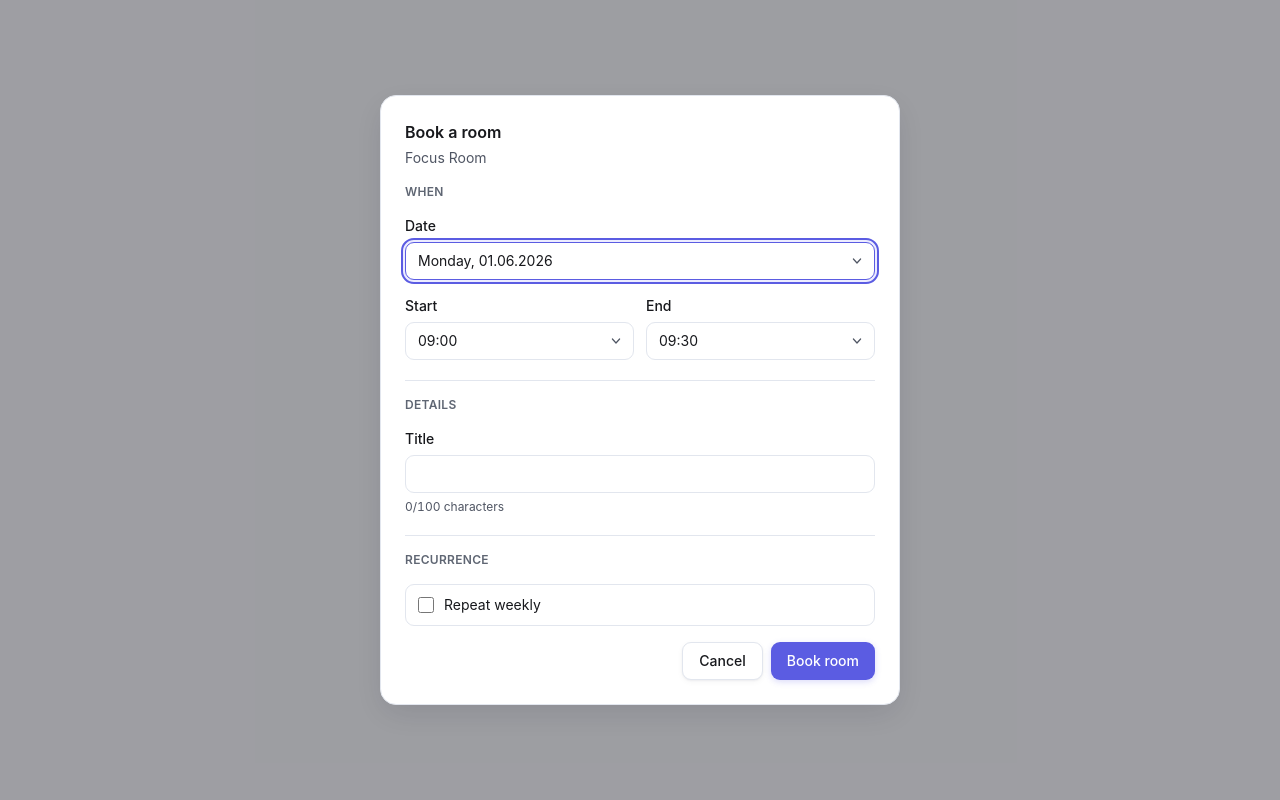
BookingCreateDialog validation › requires a valid occurrence count once recurrence is enabled
Type "Sprint planning" into the field labelled "Title".
click(640, 474); type("Sprint planning")  # box [405,455,875,493]
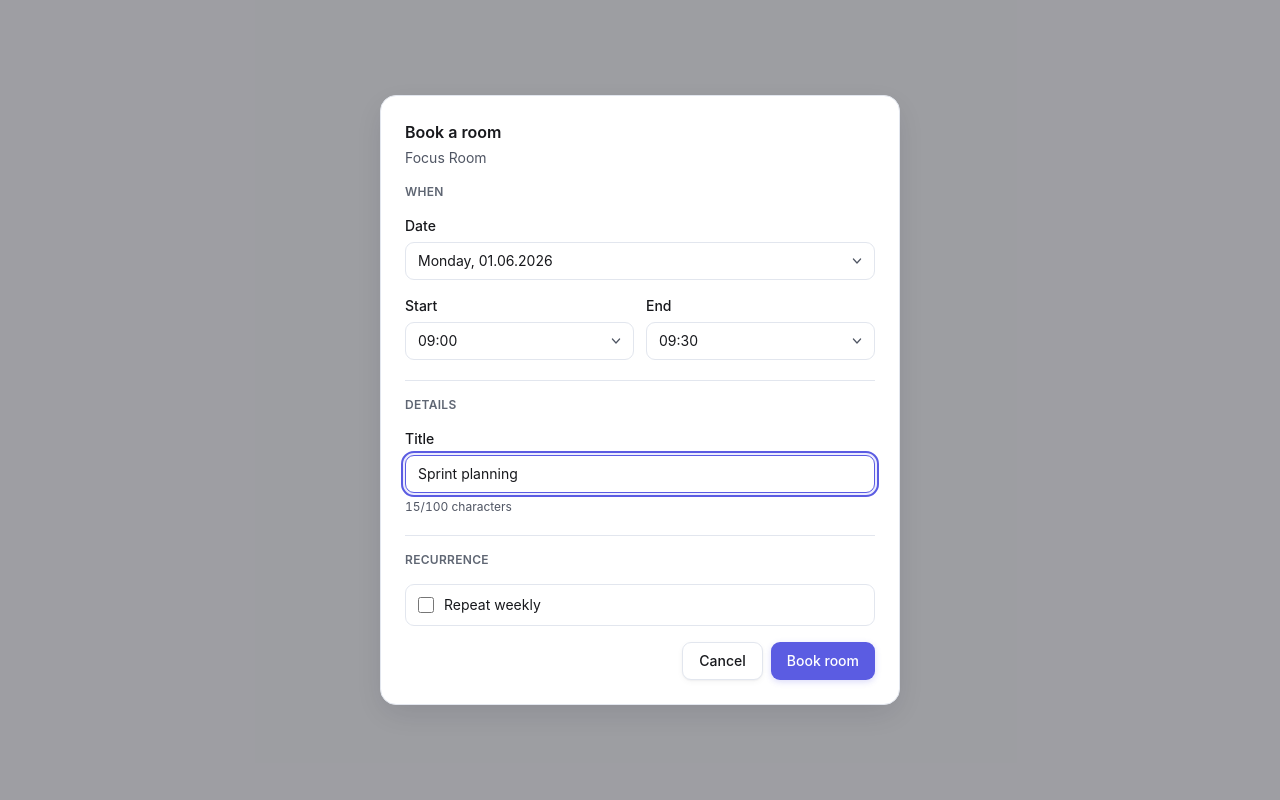
Click the checkbox labelled "Repeat weekly".
click(426, 605)  # box [418,597,434,613]
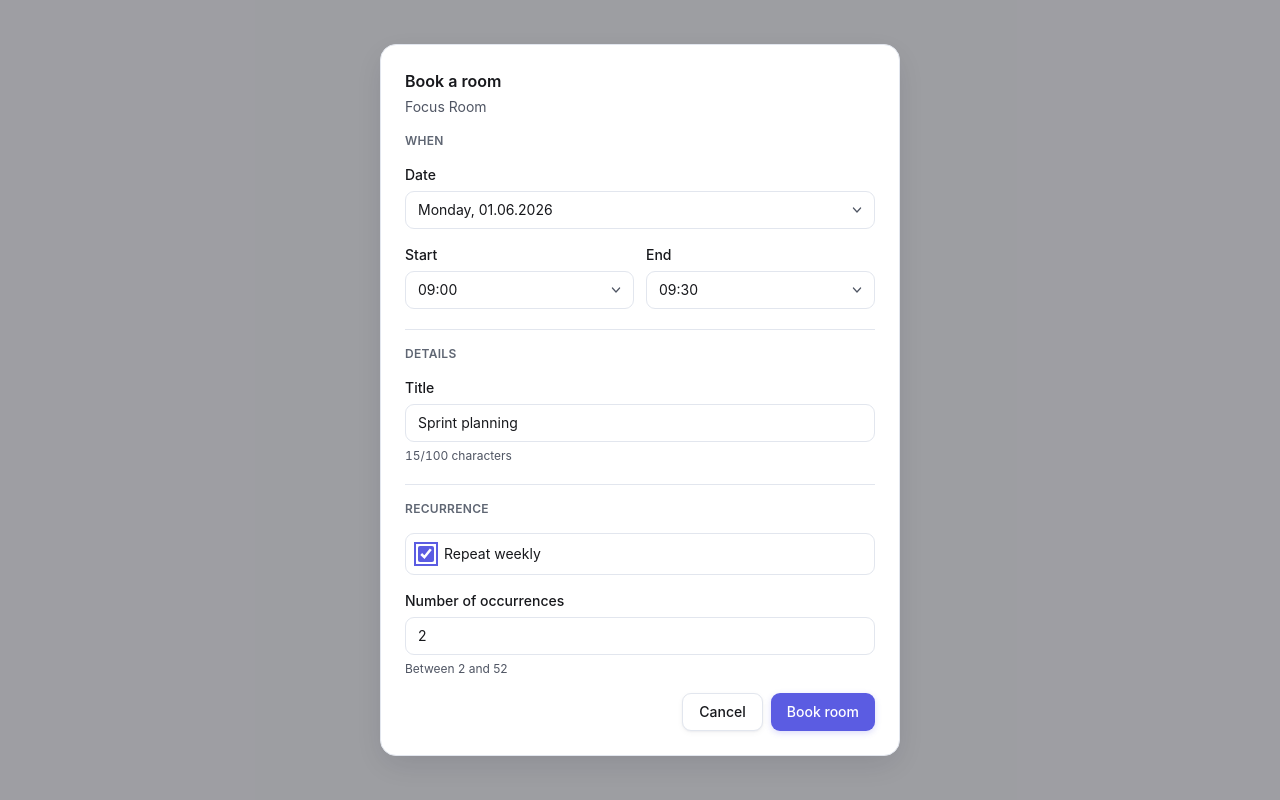
Replace the text in the number field labelled "Number of occurrences" with "1" at [640, 636], box [405,617,875,655]
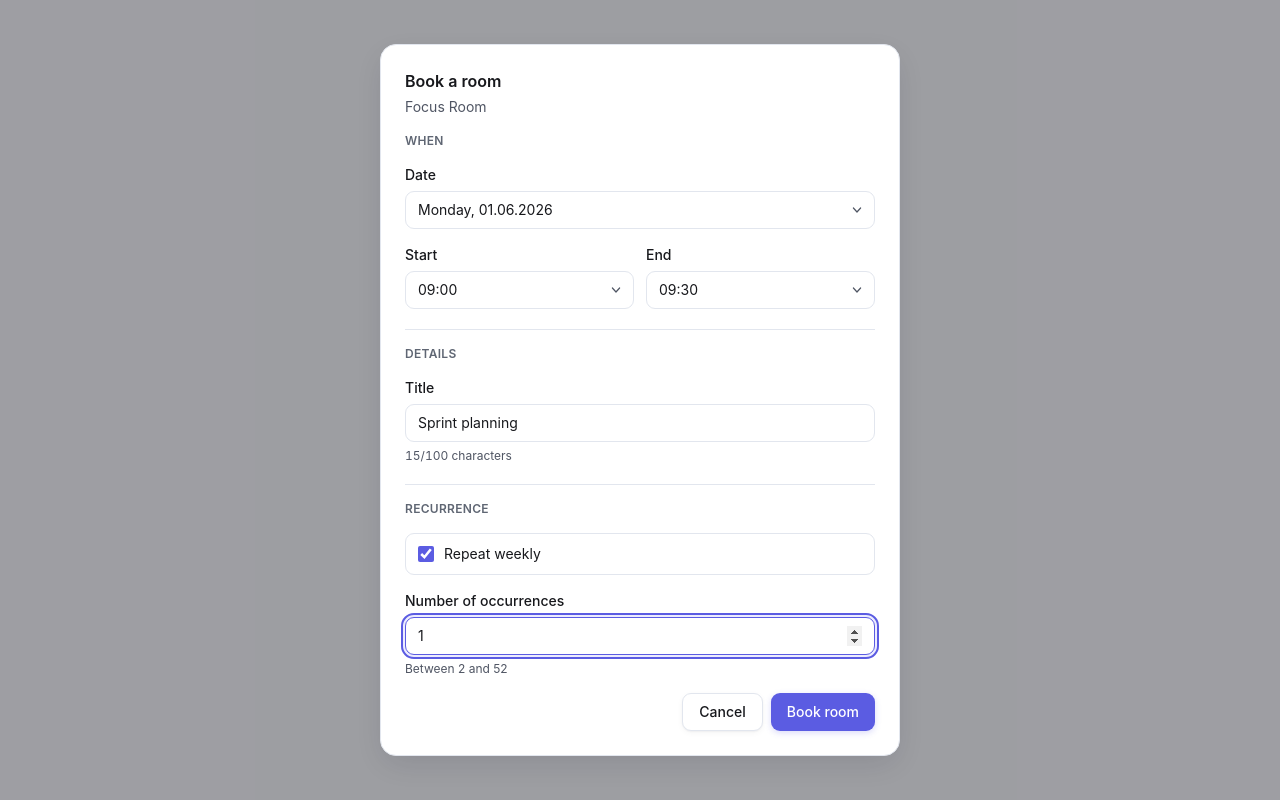
Click the button "Book room".
click(823, 712)  # box [771,693,875,731]
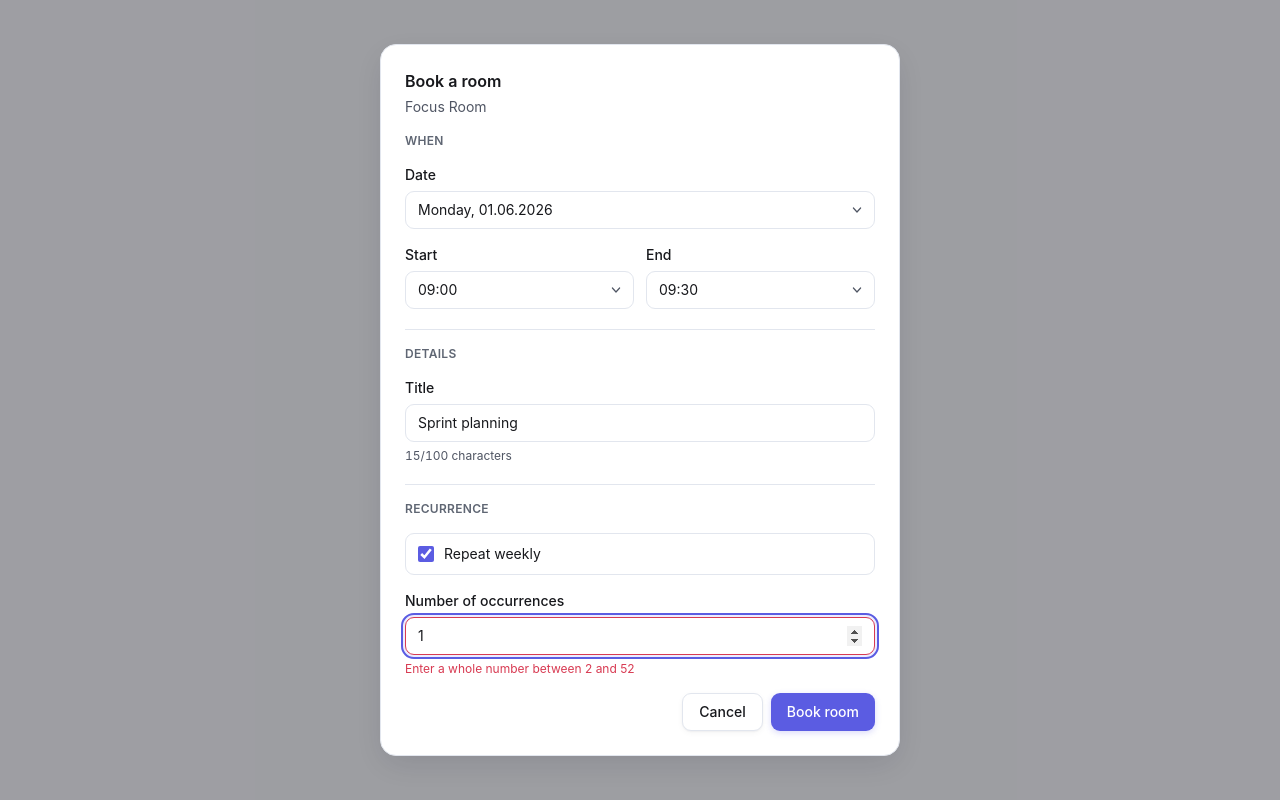
Result: the text "Enter a whole number between 2 and 52" is shown at [405,661,635,676]
